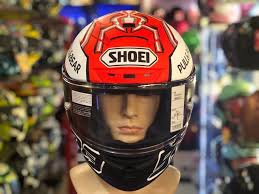helmet: (70, 18, 194, 168)
